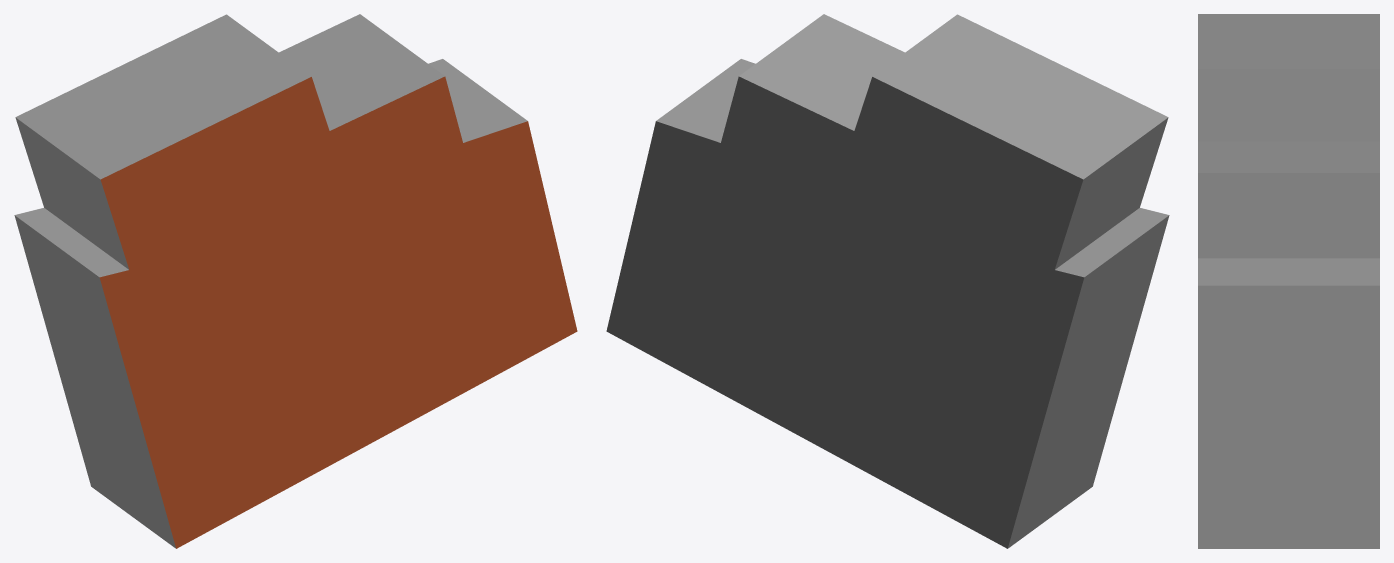
Rendered from construction_5662_assumed_A_Casa_h6m.obj.
The picture shows the model from 3 angles, left to right: view 1: azimuth 30°, elevation 25°; view 2: azimuth 150°, elevation 25°; view 3: azimuth 270°, elevation 25°; orthographic projection. The views are drawn at different scales.
Visible parts, largest first — view 1: construction_5662_assumed_A_Casa; view 2: construction_5662_assumed_A_Casa; view 3: construction_5662_assumed_A_Casa.
Part boxes in pixels (x1,y1,x2,y2): construction_5662_assumed_A_Casa: [14, 14, 577, 548]; construction_5662_assumed_A_Casa: [606, 14, 1169, 548]; construction_5662_assumed_A_Casa: [1198, 14, 1379, 548].
Bounding box in the file's own units: 19.44 × 17.07 × 6.
